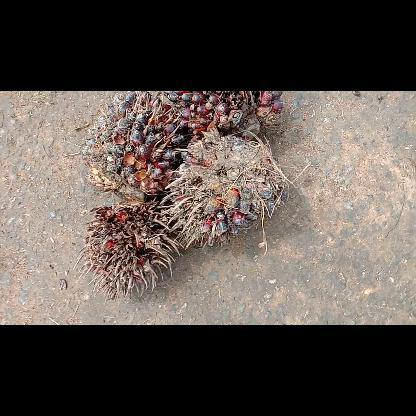TBS abnormal: (161, 128, 281, 248), (81, 90, 183, 202), (74, 204, 183, 300), (164, 91, 282, 139)
